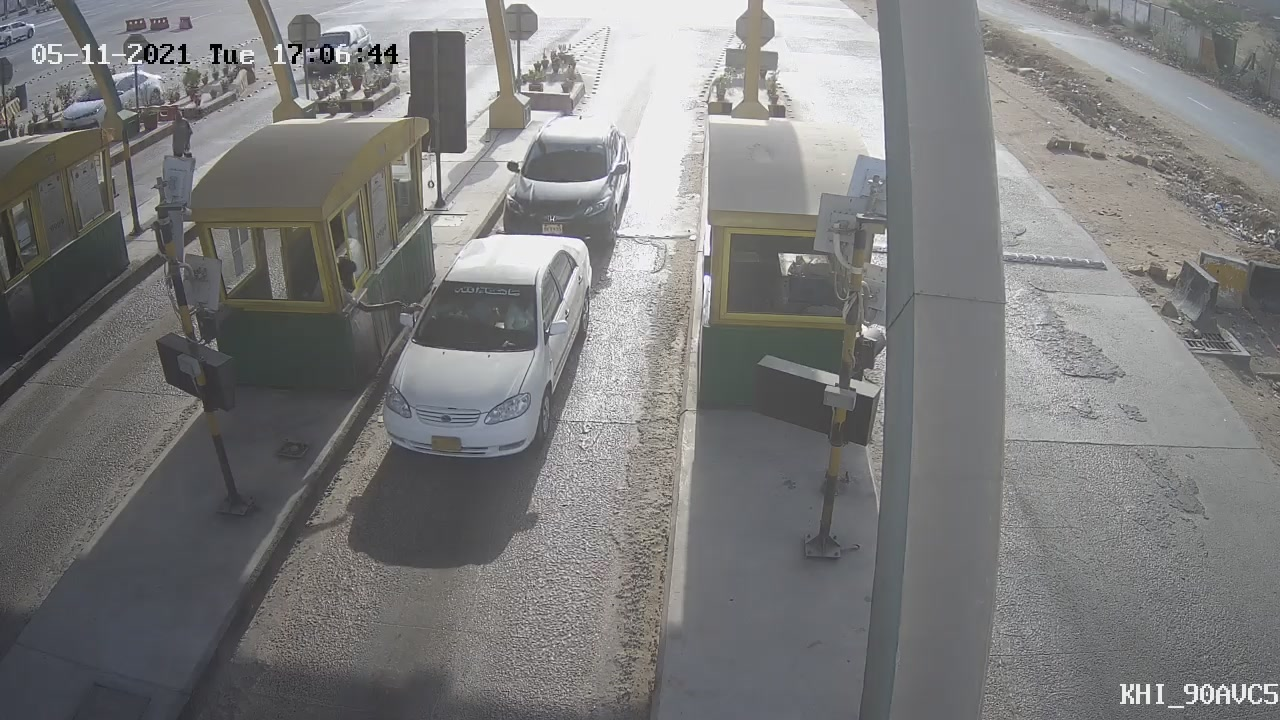F1: (355, 216, 620, 482), (481, 94, 648, 266)
